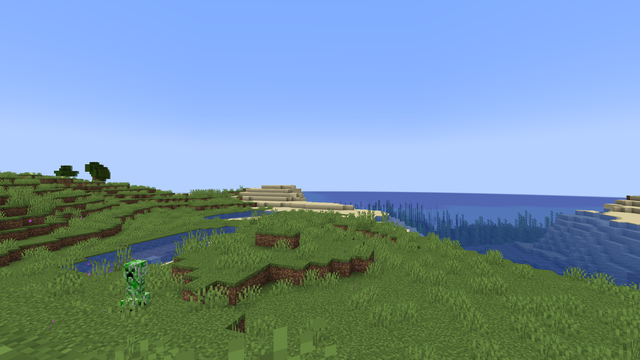creepers: (121, 257, 149, 312)
